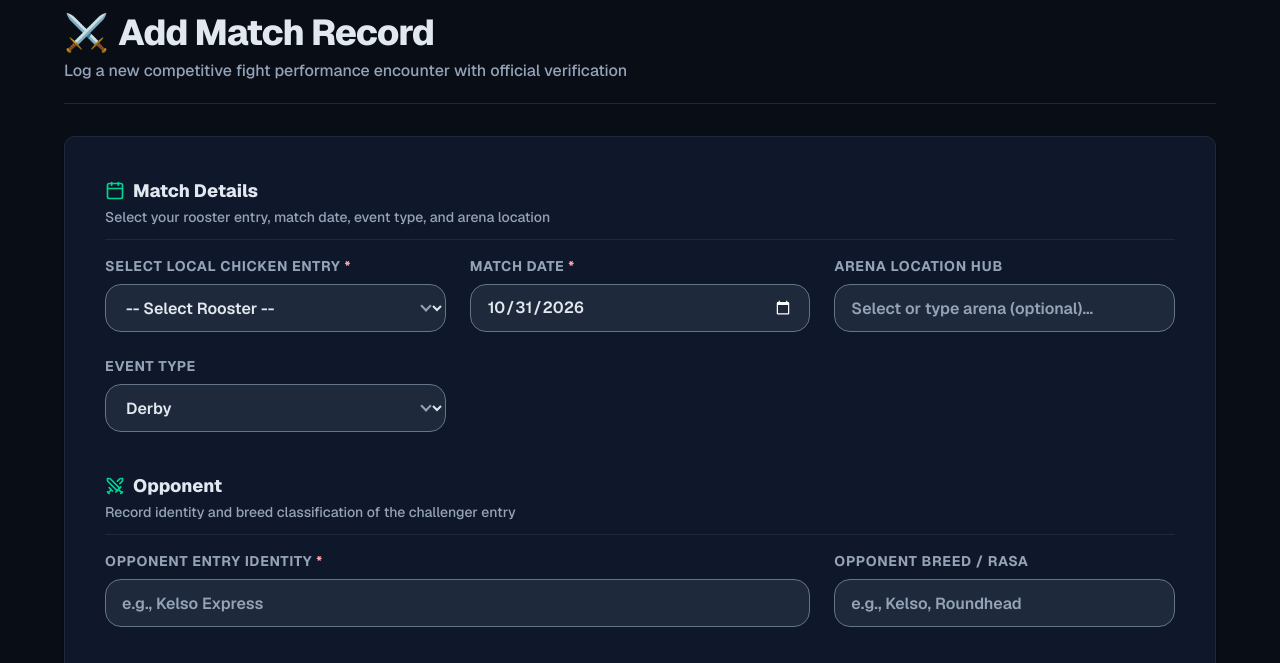
Test: MatchRecordForm › rejects match dates in the future
The width and height of the screenshot is (1280, 663).
Select "[1A1] Lemon Storm (Lemon)" in the dropdown labelled "Select Local Chicken Entry *" at (275, 308), box top-left (105, 284), bottom-right (446, 332)
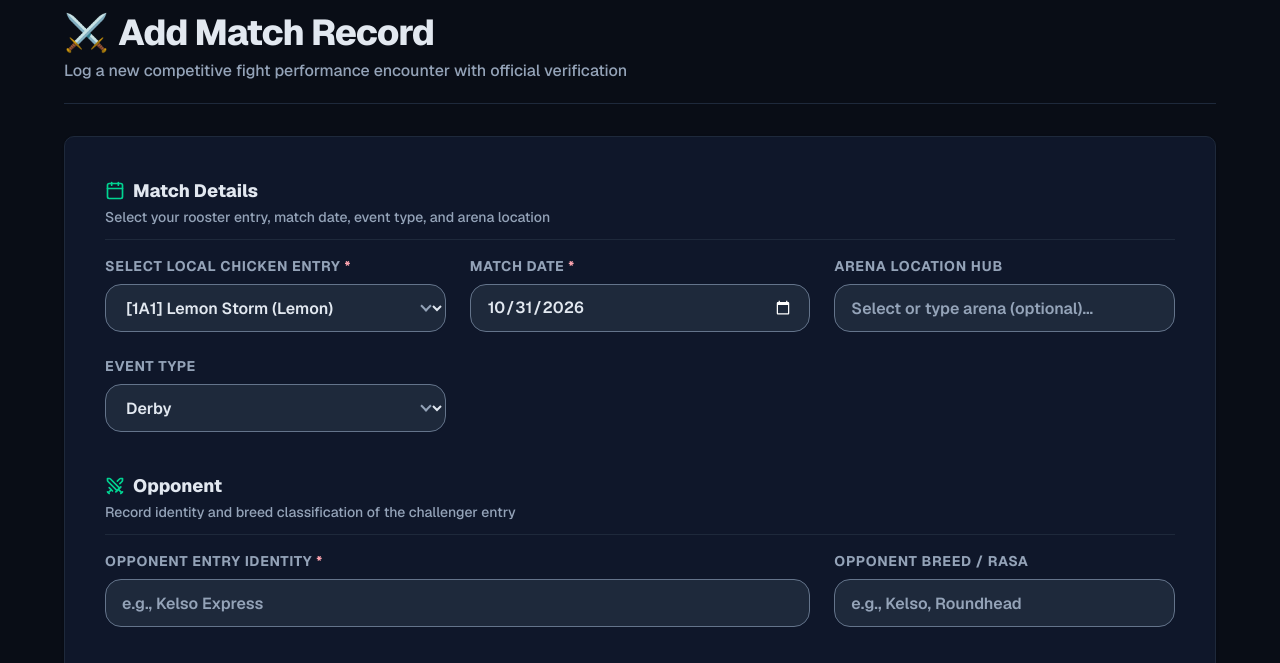
Type "Future Opponent" into the field labelled "Opponent Entry Identity *" at (458, 603), box top-left (105, 579), bottom-right (810, 627)
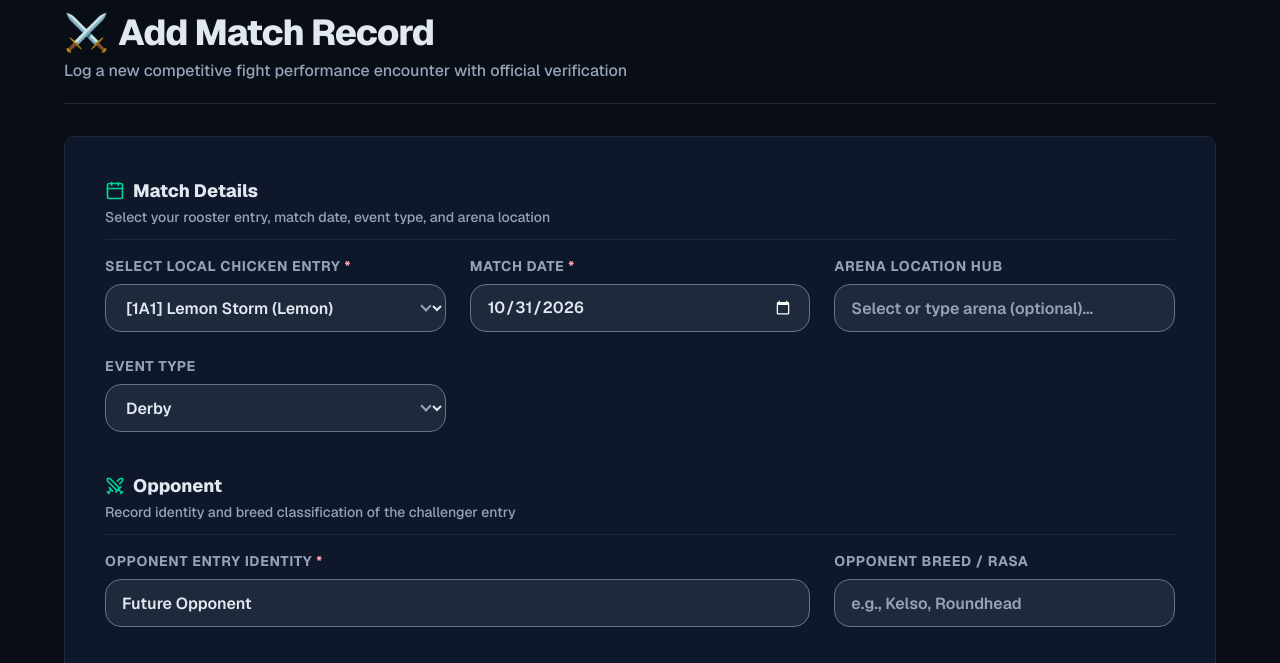
Type "2099-01-01" into the date field labelled "Match Date *" at (640, 308), box top-left (470, 284), bottom-right (810, 332)
(page scrolled)
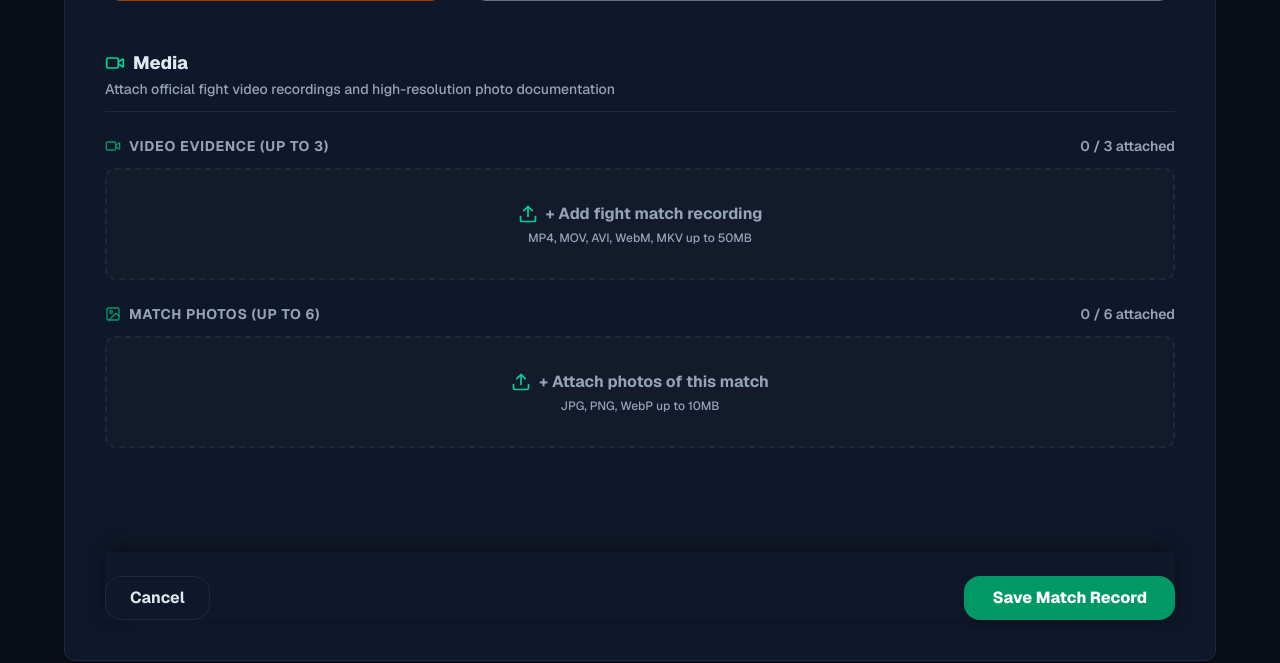
Click the button "Save Match Record" at (1070, 598), box top-left (964, 576), bottom-right (1175, 620)
(page scrolled)
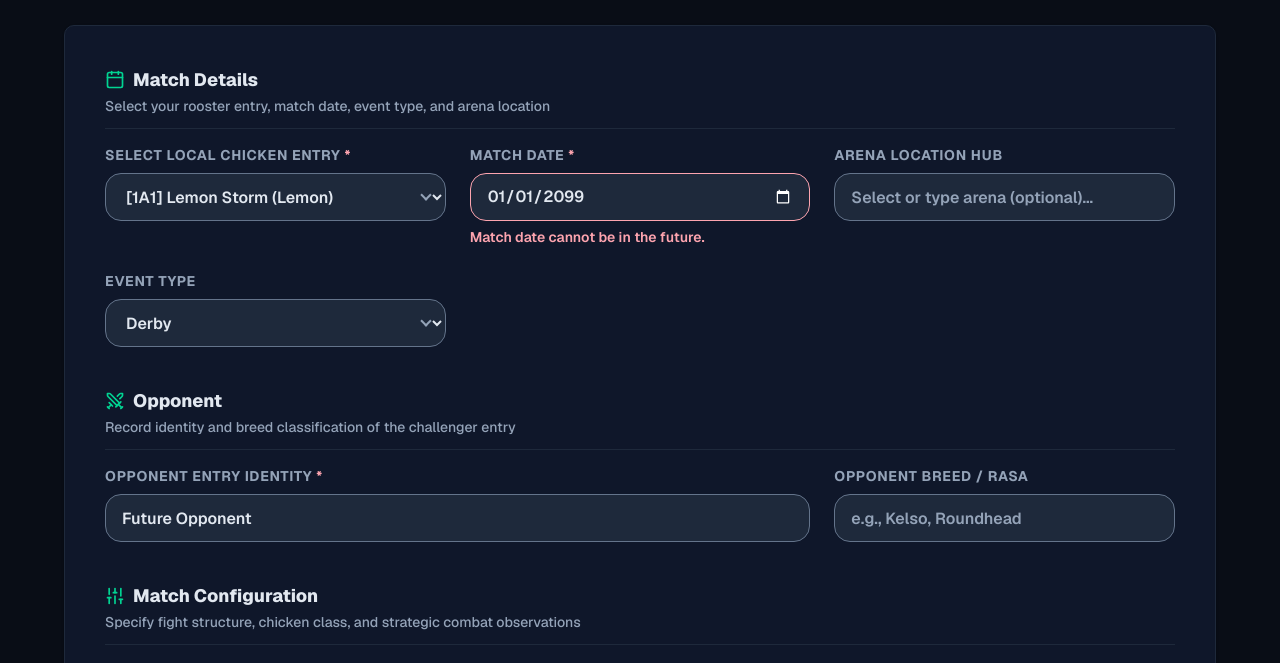
Now the text "Match date cannot be in the future." is shown, box top-left (470, 228), bottom-right (705, 246)
